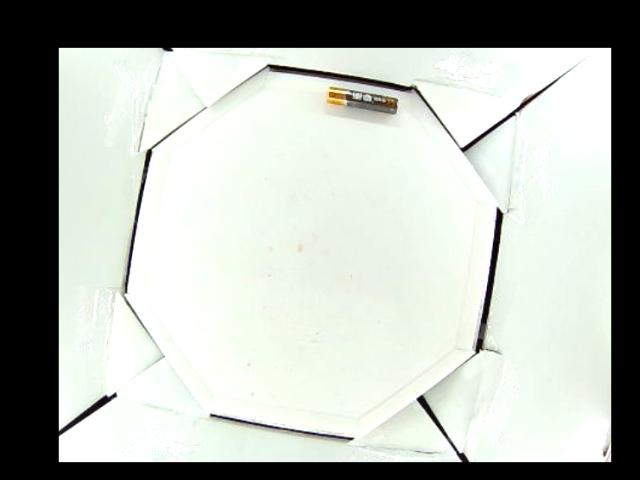Battery: (325, 85, 399, 118)
